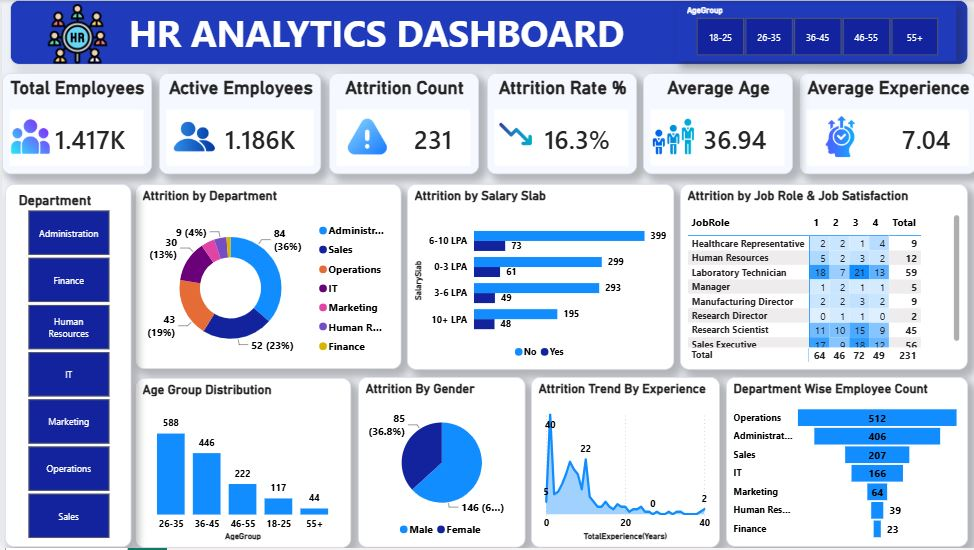

This screenshot's page, from the dashboard's own definition file:
{"tool":"powerbi","page":{"name":"HR ANALYTICS","canvas":[1280,720],"ordinal":0},"visuals":[{"type":"textbox","box":[10,0,1259,85],"z":0},{"type":"image","box":[59.2,5.5,79.8,78.5],"z":1000},{"type":"cardVisual","title":"Total Employees","fields":{"Data":["CountNonNull(HR_Analytics-4.EmpID)"]},"box":[0,95.7,196.5,132.7],"z":2000},{"type":"cardVisual","title":"Average Experience","fields":{"Data":["Avg(HR_Analytics-4.YearsatCompany)"]},"box":[1046.5,95.7,233.5,132.7],"z":3000},{"type":"cardVisual","title":"Active Employees","fields":{"Data":["CountNonNull(HR_Analytics-4.EmployeeCount)"]},"box":[206.6,95.7,213.3,132.7],"z":4000},{"type":"cardVisual","title":"Attrition Count","fields":{"Data":["Sum(HR_Analytics-4.AttritionCount)"]},"box":[430,95.7,196.5,132.7],"z":5000},{"type":"cardVisual","title":"Attrition Rate %","fields":{"Data":["HR_Analytics-4.Attrition Rate %"]},"box":[636.6,95.7,196.5,132.7],"z":6000},{"type":"cardVisual","title":"Average Age","fields":{"Data":["Avg(HR_Analytics-4.Age)"]},"box":[841.6,95.7,196.5,132.7],"z":7000},{"type":"image","box":[7.9,152.4,59.1,53.9],"z":8000},{"type":"image","box":[220.7,152.4,64.4,53.9],"z":12000},{"type":"donutChart","title":"Attrition by Department","fields":{"Category":["HR_Analytics-4.Department"],"Y":["Sum(HR_Analytics-4.AttritionCount)"]},"box":[175,242,350,243],"z":14000},{"type":"clusteredBarChart","title":"Attrition by Salary Slab","fields":{"Category":["HR_Analytics-4.SalarySlab"],"Y":["CountNonNull(HR_Analytics-4.EmpID)"],"Series":["HR_Analytics-4.Attrition"]},"box":[532.5,241.9,351.1,243.6],"z":15000},{"type":"pivotTable","title":"Attrition by Job Role & Job Satisfaction","fields":{"Rows":["HR_Analytics-4.JobRole"],"Values":["Sum(HR_Analytics-4.AttritionCount)"],"Columns":["HR_Analytics-4.JobSatisfaction"]},"box":[890.3,241.9,378,243.6],"z":16000},{"type":"columnChart","title":"Age Group Distribution","fields":{"Category":["HR_Analytics-4.AgeGroup"],"Y":["Sum(HR_Analytics-4.EmployeeCount)"]},"box":[174.7,497.2,283.9,223.4],"z":17000},{"type":"pieChart","title":"Attrition By Gender","fields":{"Category":["HR_Analytics-4.Gender"],"Y":["Sum(HR_Analytics-4.AttritionCount)"]},"box":[468,495.5,220.2,224.3],"z":18000},{"type":"areaChart","title":"Attrition Trend By Experience","fields":{"Category":["HR_Analytics-4.TotalExperience(Years)"],"Y2":["Sum(HR_Analytics-4.AttritionCount)"]},"box":[695.1,495.5,247.7,224.3],"z":19000},{"type":"funnel","title":"Department Wise Employee Count","fields":{"Category":["HR_Analytics-4.Department"],"Y":["CountNonNull(HR_Analytics-4.EmpID)"]},"box":[951.1,495.5,317.9,223],"z":20000},{"type":"slicer","fields":{"Values":["HR_Analytics-4.Department"]},"box":[3.9,241.8,165.5,476.9],"z":21000},{"type":"slicer","fields":{"Values":["HR_Analytics-4.AgeGroup"]},"box":[886.4,2.8,367.5,77.1],"z":22000},{"type":"image","box":[448,152.4,64.4,53.9],"z":22001},{"type":"image","box":[643.8,152.4,64.4,53.9],"z":22002},{"type":"image","box":[850.1,152.4,64.4,53.9],"z":22003},{"type":"image","box":[1069.5,152.4,64.4,53.9],"z":22004}]}

Visuals, with their boxes in screenshot pixels (x1, y1, x2, y2), scaled from the page's 1280x720 canvas onto the 974x550 screenshot:
textbox: x1=8, y1=0, x2=966, y2=65
image: x1=45, y1=4, x2=106, y2=64
"Total Employees" cardVisual: x1=0, y1=73, x2=150, y2=174
"Average Experience" cardVisual: x1=796, y1=73, x2=973, y2=174
"Active Employees" cardVisual: x1=157, y1=73, x2=320, y2=174
"Attrition Count" cardVisual: x1=327, y1=73, x2=477, y2=174
"Attrition Rate %" cardVisual: x1=484, y1=73, x2=634, y2=174
"Average Age" cardVisual: x1=640, y1=73, x2=790, y2=174
image: x1=6, y1=116, x2=51, y2=158
image: x1=168, y1=116, x2=217, y2=158
"Attrition by Department" donutChart: x1=133, y1=185, x2=399, y2=370
"Attrition by Salary Slab" clusteredBarChart: x1=405, y1=185, x2=672, y2=371
"Attrition by Job Role & Job Satisfaction" pivotTable: x1=677, y1=185, x2=965, y2=371
"Age Group Distribution" columnChart: x1=133, y1=380, x2=349, y2=549
"Attrition By Gender" pieChart: x1=356, y1=379, x2=524, y2=549
"Attrition Trend By Experience" areaChart: x1=529, y1=379, x2=717, y2=549
"Department Wise Employee Count" funnel: x1=724, y1=379, x2=966, y2=549
slicer - HR_Analytics-4.Department: x1=3, y1=185, x2=129, y2=549
slicer - HR_Analytics-4.AgeGroup: x1=674, y1=2, x2=954, y2=61
image: x1=341, y1=116, x2=390, y2=158
image: x1=490, y1=116, x2=539, y2=158
image: x1=647, y1=116, x2=696, y2=158
image: x1=814, y1=116, x2=863, y2=158
